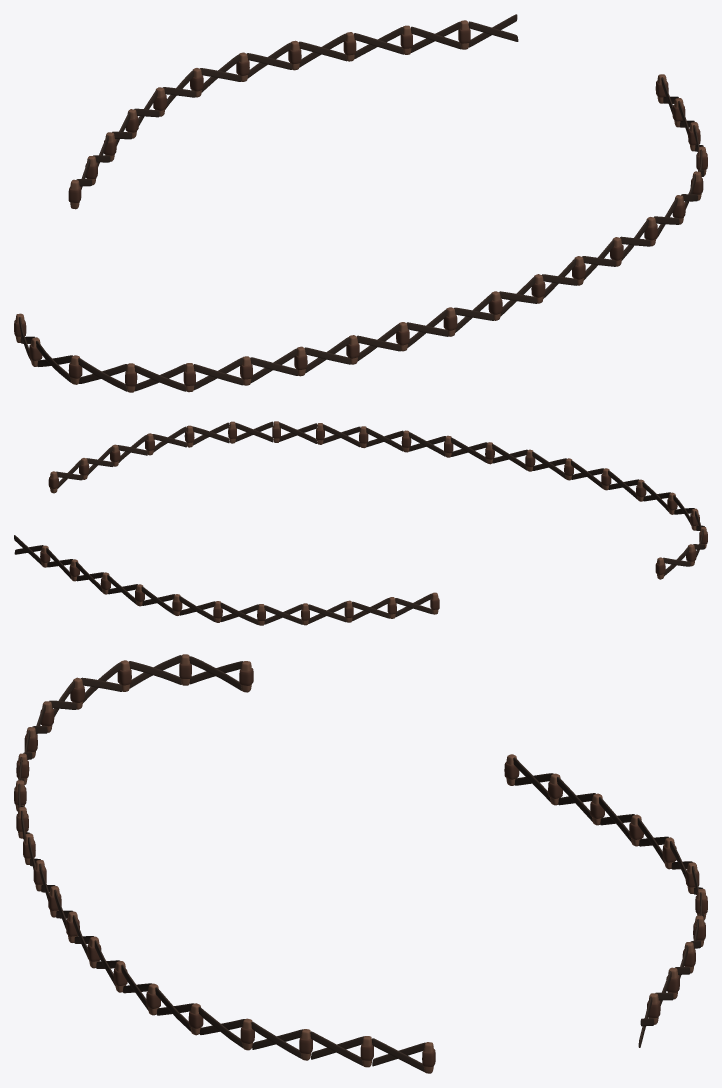
Rendered from barriere_3.fbx.
3 renders of one model, top to bottom at view 1: azimuth 30°, elevation 25°; view 2: azimuth 150°, elevation 25°; view 3: azimuth 270°, elevation 25°, orthographic. The views are drawn at different scales.
Parts seen in each view (by area): view 1: planche.001; view 2: planche.001; view 3: planche.001.
Part boxes in pixels (x1,y1,x2,y2): planche.001: (14,14,707,392); planche.001: (14,421,707,625); planche.001: (14,654,707,1073).
Size of the model in its own units: 90.94 by 1940 by 2601.
